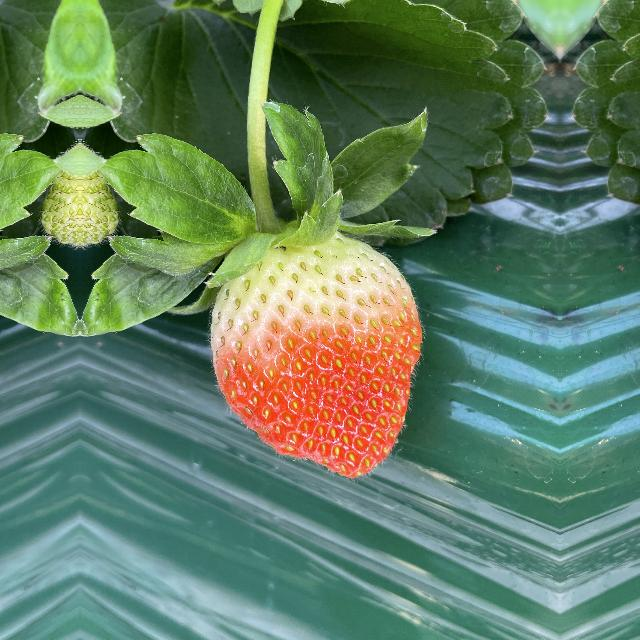Health_75: (205, 224, 437, 486)
